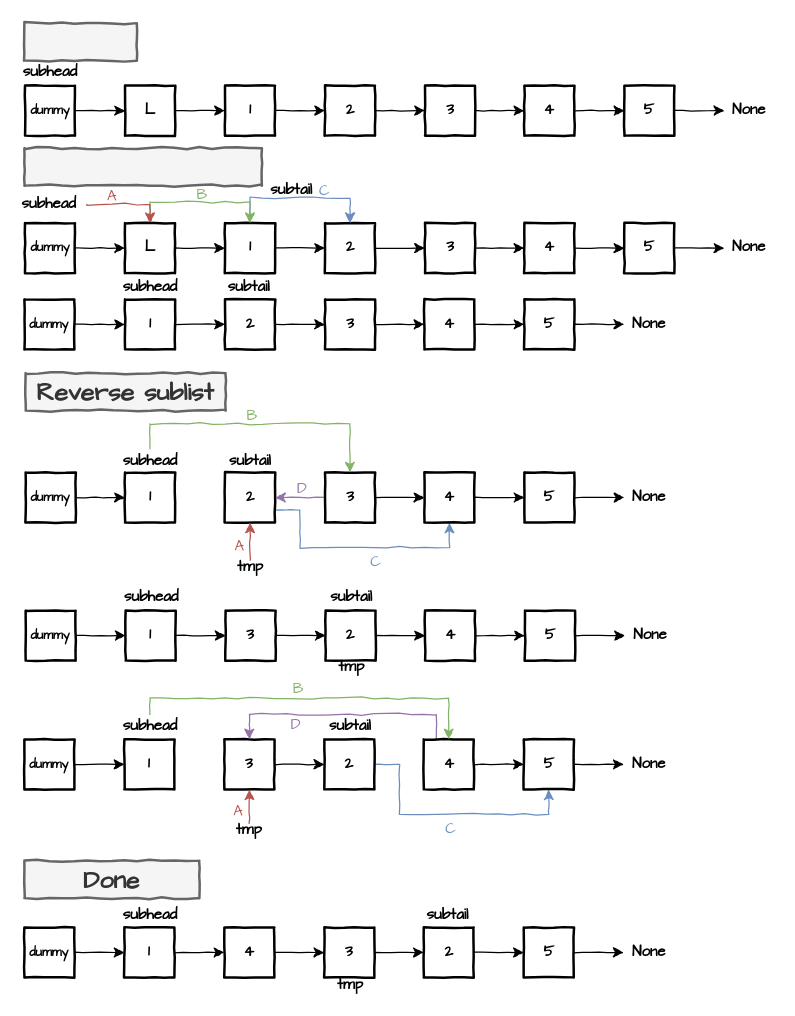
Image size: 795x1016. Some labels were removed from this diagram. The shapes that lost their labels are listed below. From the top down, each one's box as (x1, y1, x2, y2) in pixels, then its label:
(22, 21, 138, 61): Initial
(22, 146, 262, 186): Traverse to sublist
